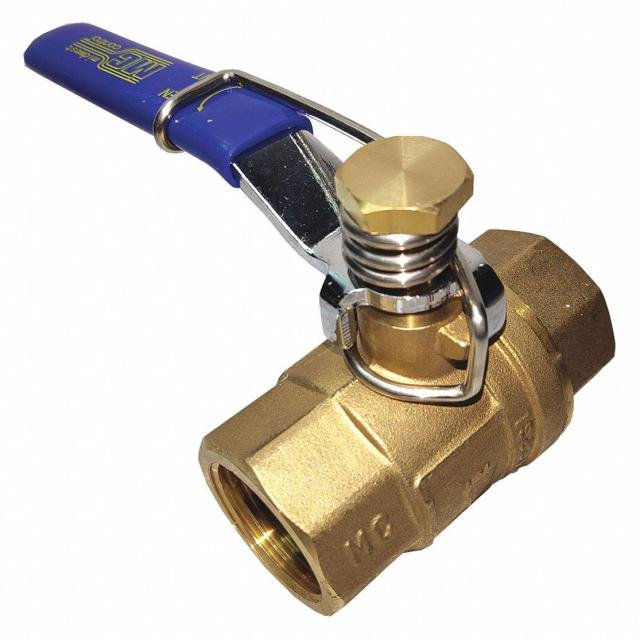closed_valve: (24, 20, 618, 614)
